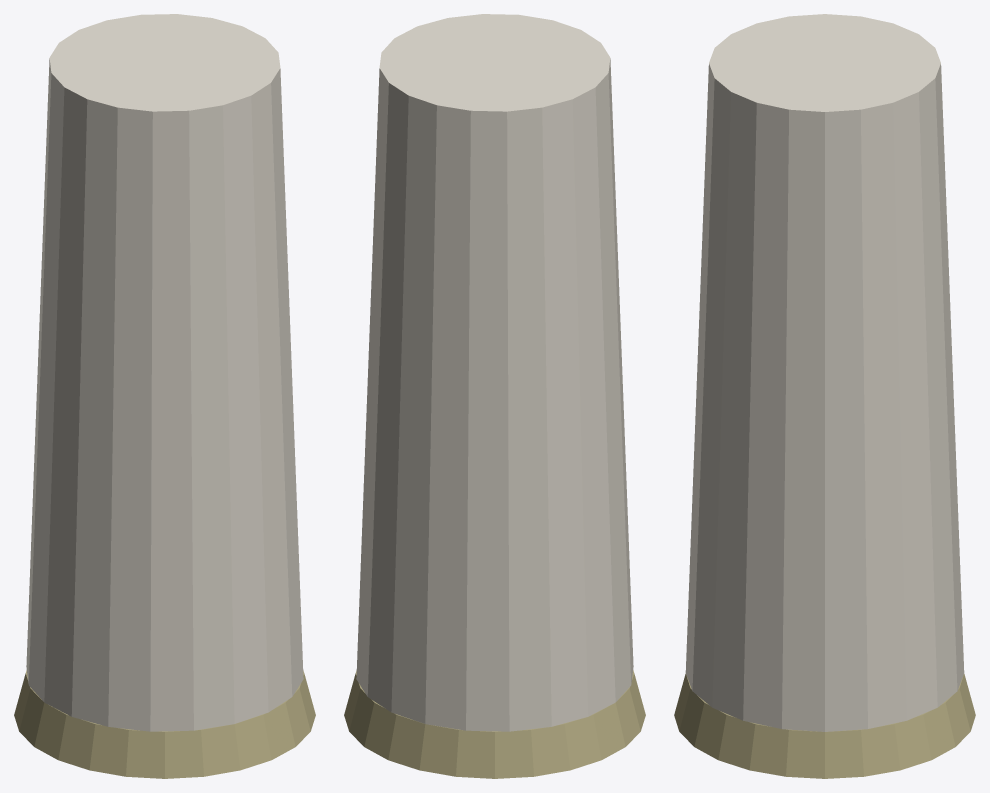
Rendered from paper_figure.glb.
3 renders of one model, left to right at view 1: azimuth 30°, elevation 25°; view 2: azimuth 150°, elevation 25°; view 3: azimuth 270°, elevation 25°, orthographic.
Parts seen in each view (by area): view 1: SM_PaperFigure; view 2: SM_PaperFigure; view 3: SM_PaperFigure.
Part boxes in pixels (x1,y1,x2,y2): SM_PaperFigure: (14,14,315,778); SM_PaperFigure: (344,14,645,778); SM_PaperFigure: (674,14,975,778).
Size of the model in its own units: 0.52 by 1.24 by 0.52.
